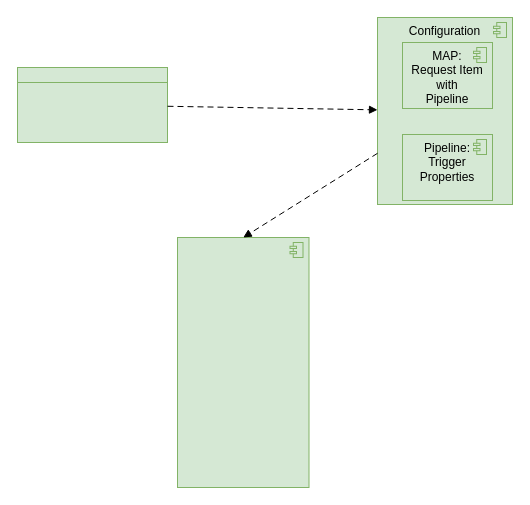
Image size: 530x505. Some labels were removed from this diagram. Here are the shapes that lost their labels. From the top down, the centre of each, then its label:
the point at 92,104: Requested Item <sc_req_item>
the point at 242,362: FlowDesigner
